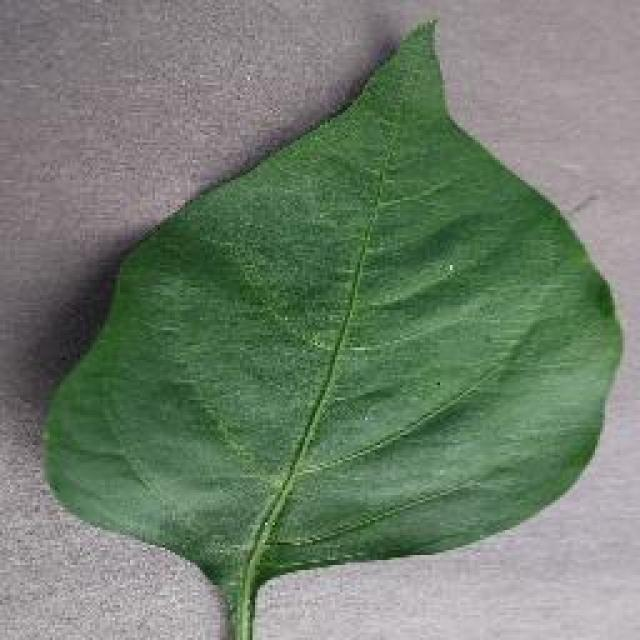Leaf: (203, 188, 538, 476), (294, 27, 536, 142), (59, 352, 186, 522)
